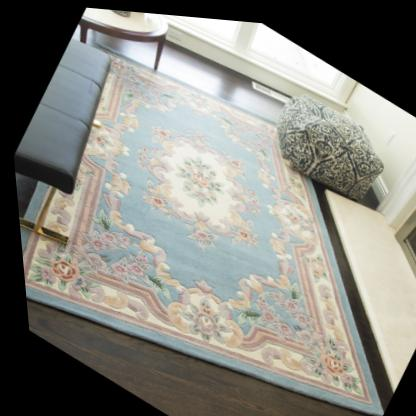Carpet: (16, 40, 374, 405)
